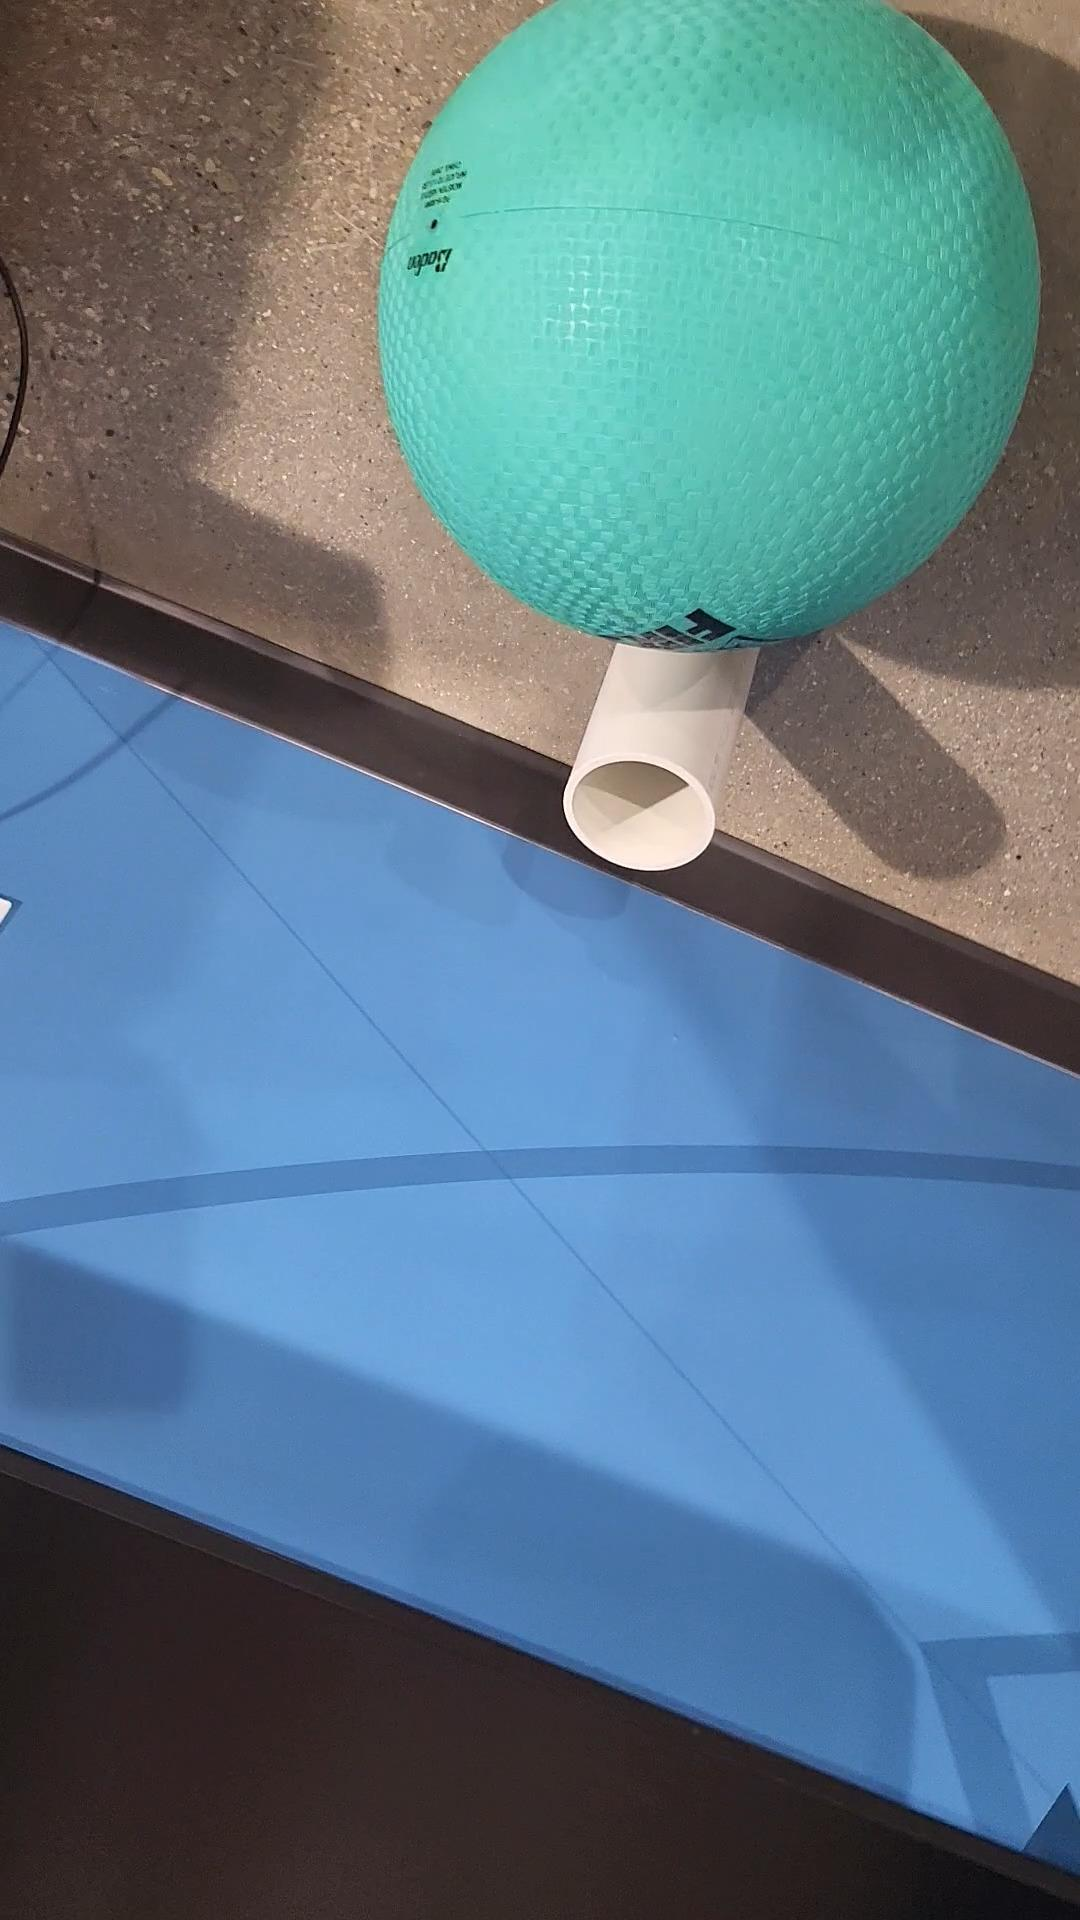algae: (375, 0, 1038, 653)
coral: (564, 640, 773, 873)
